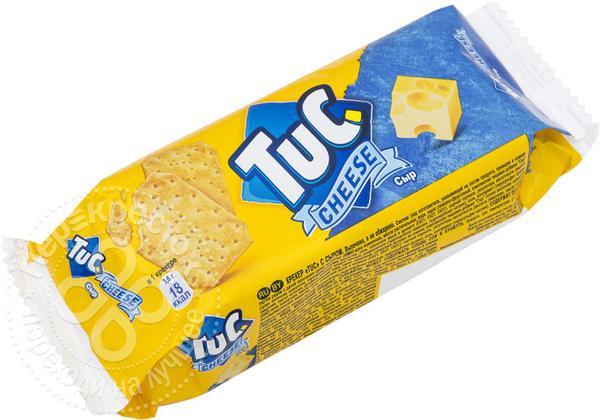crackers tuc: (42, 7, 535, 408)
